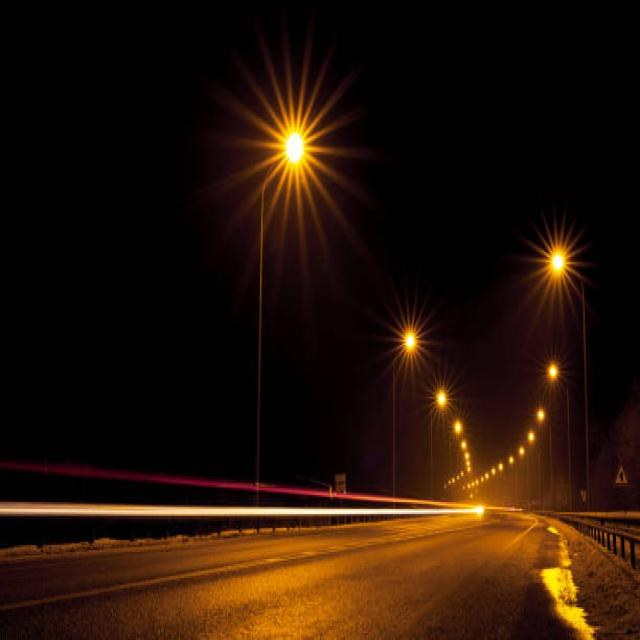acesa: (271, 91, 329, 193), (542, 232, 571, 291), (396, 313, 421, 364)
